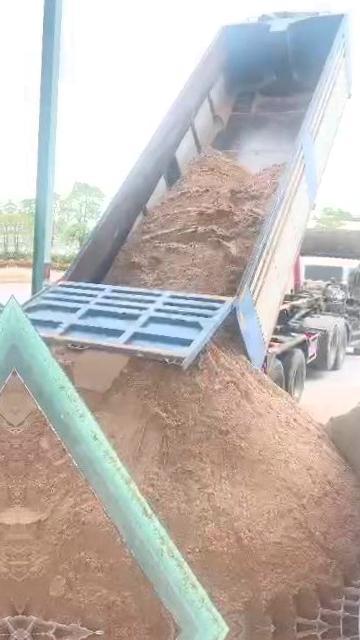sand: (85, 341, 360, 628), (15, 413, 173, 631), (109, 154, 277, 293), (50, 344, 129, 400), (325, 392, 360, 498), (15, 376, 35, 426)
